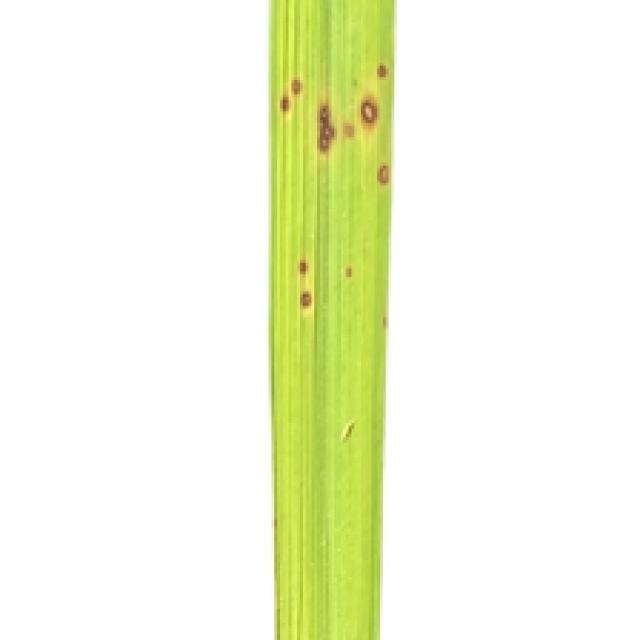Rice___Brown_Spot: (269, 2, 397, 637)
